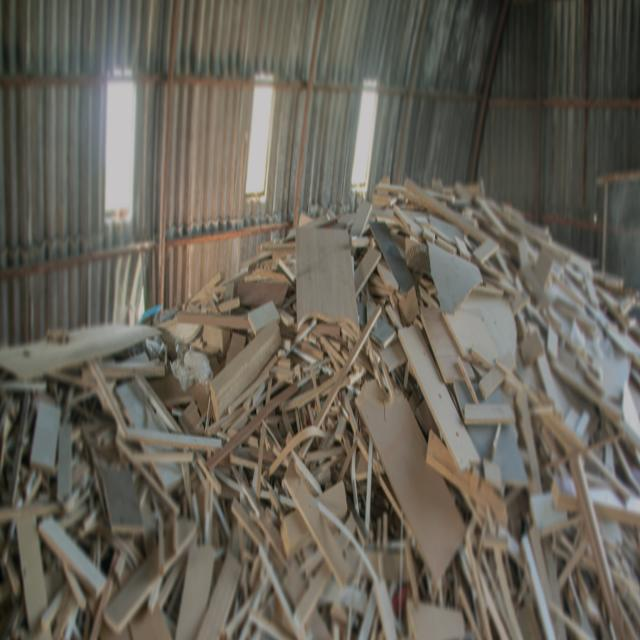green waste: (0, 120, 640, 640)
